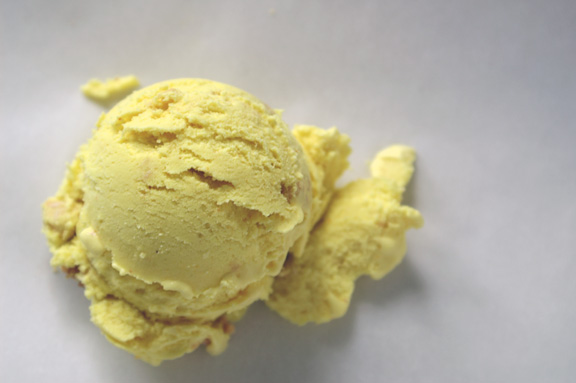ice-cream: (44, 78, 424, 361)
